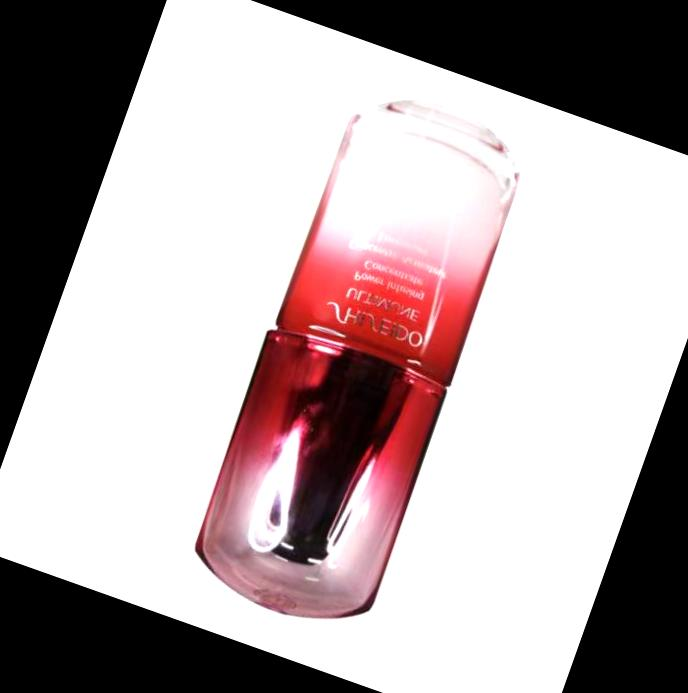cosmetic: (176, 79, 540, 647)
